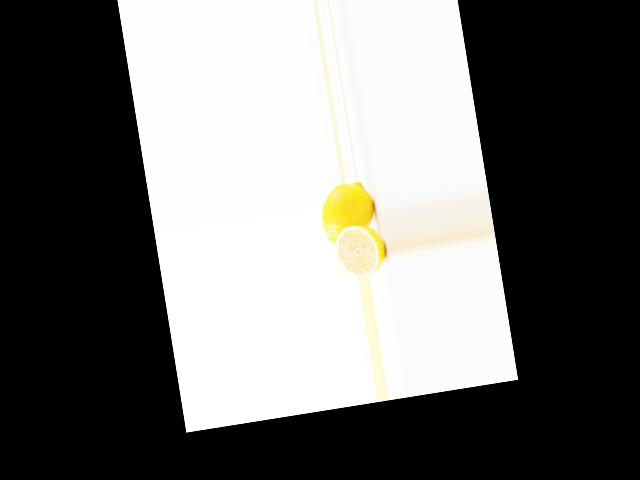lemon: (315, 180, 382, 247)
